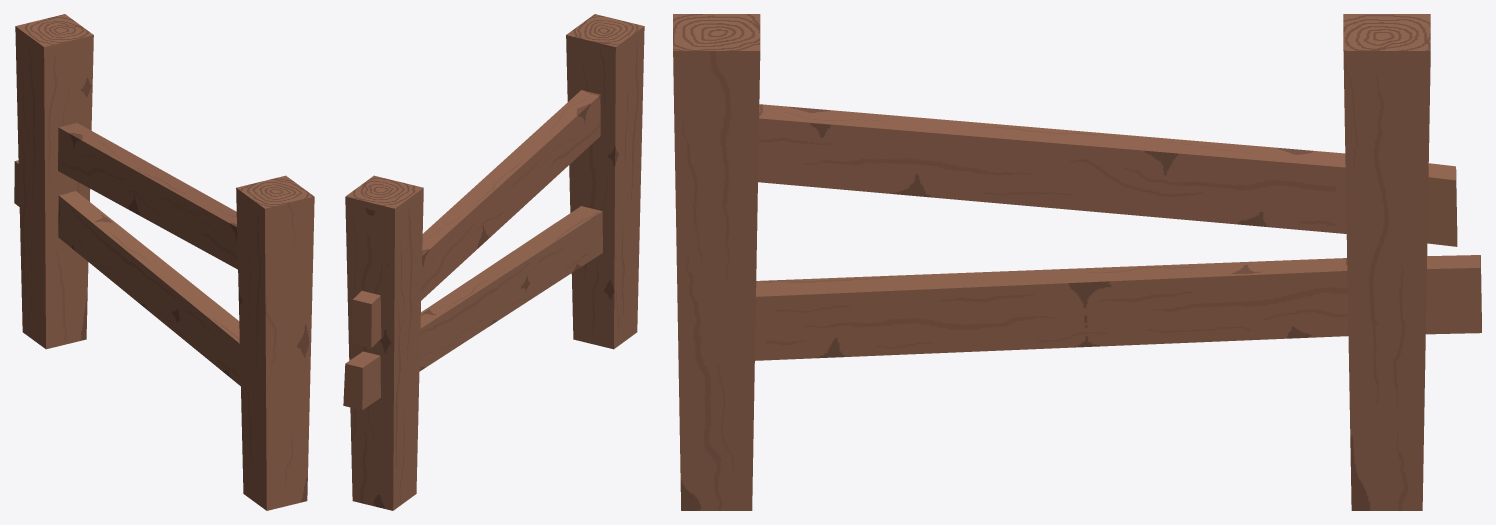
Rendered from BrokenFence1.fbx.
3 views of the same model, side by side, from view 1: azimuth 30°, elevation 25°; view 2: azimuth 150°, elevation 25°; view 3: azimuth 270°, elevation 25° (orthographic). The views are drawn at different scales.
Parts seen in each view (by area): view 1: Cube; view 2: Cube; view 3: Cube.
Boxes of the visible parts, x1,y1,x2,y2 form: Cube: [14, 14, 314, 510]; Cube: [343, 14, 644, 510]; Cube: [673, 14, 1481, 510].
Size of the model in its own units: 70.42 by 413 by 652.
